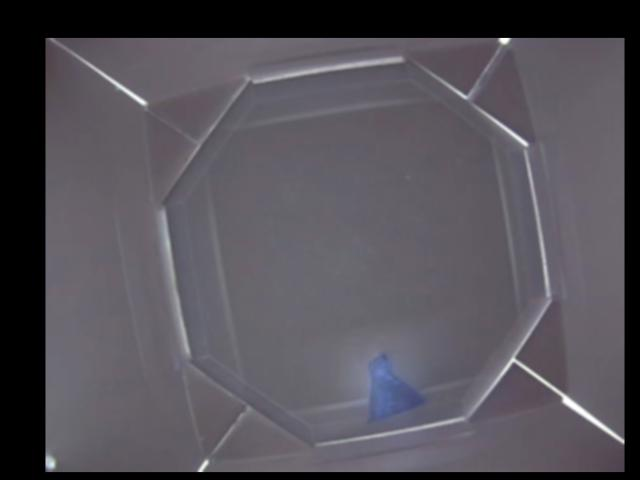Mooli: (365, 351, 424, 421)
